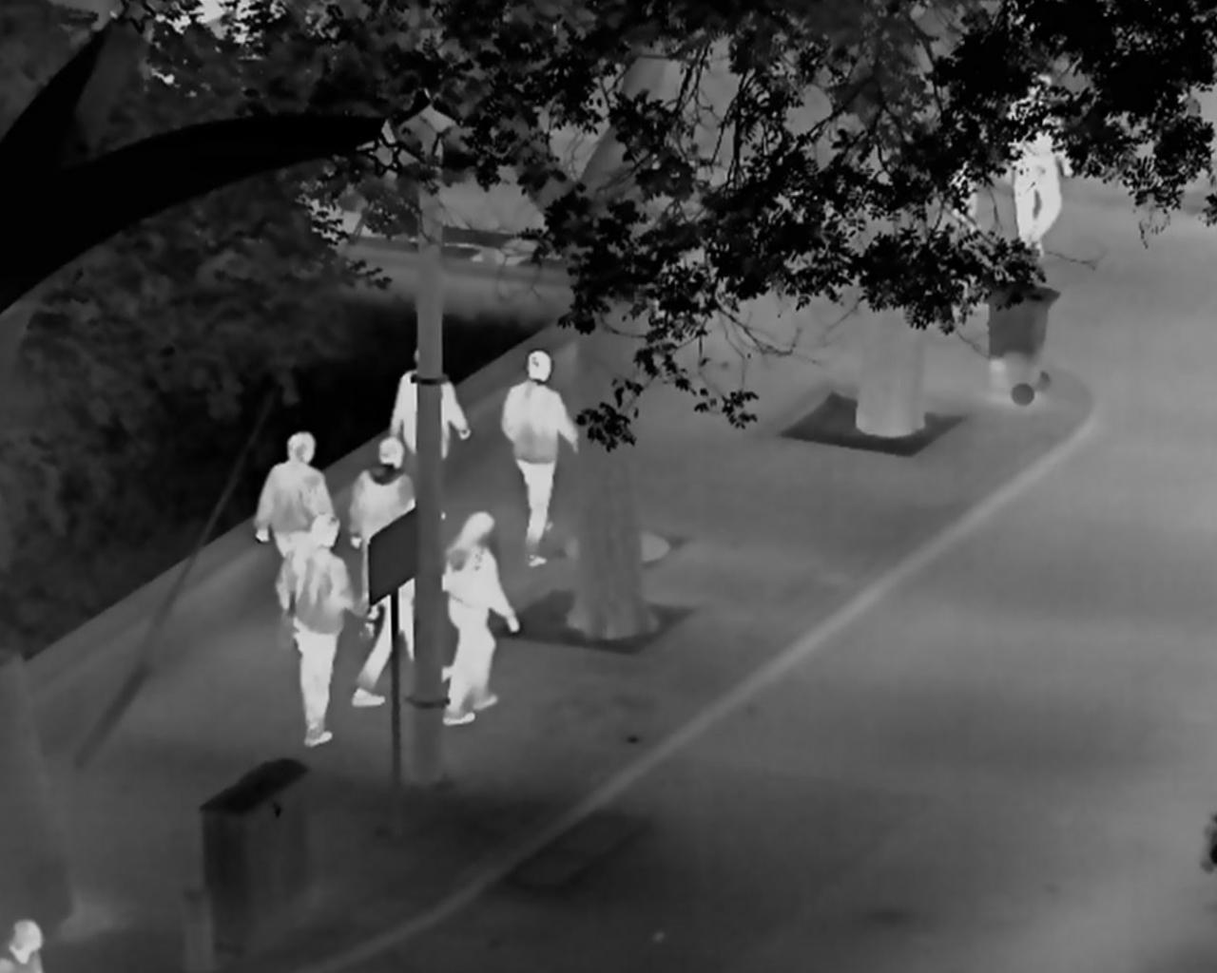person: (275, 513, 377, 748), (350, 508, 455, 711), (255, 427, 335, 648), (440, 510, 521, 726), (500, 350, 579, 568), (343, 435, 418, 639), (1004, 70, 1074, 258), (388, 344, 473, 471)
